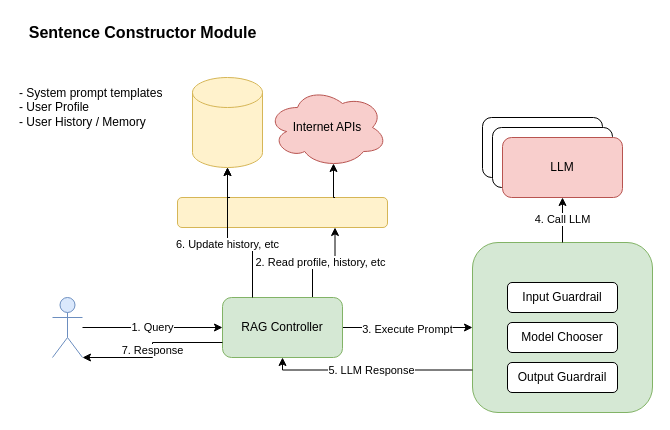
Some shapes in this 670 by 430 pixel diagram are drawn without their labels. Each missing label, with the box of its shape:
Cache: (176, 196, 388, 228)
Database: (192, 76, 262, 168)
LLM Router: (472, 242, 652, 412)
Student: (52, 296, 82, 358)
